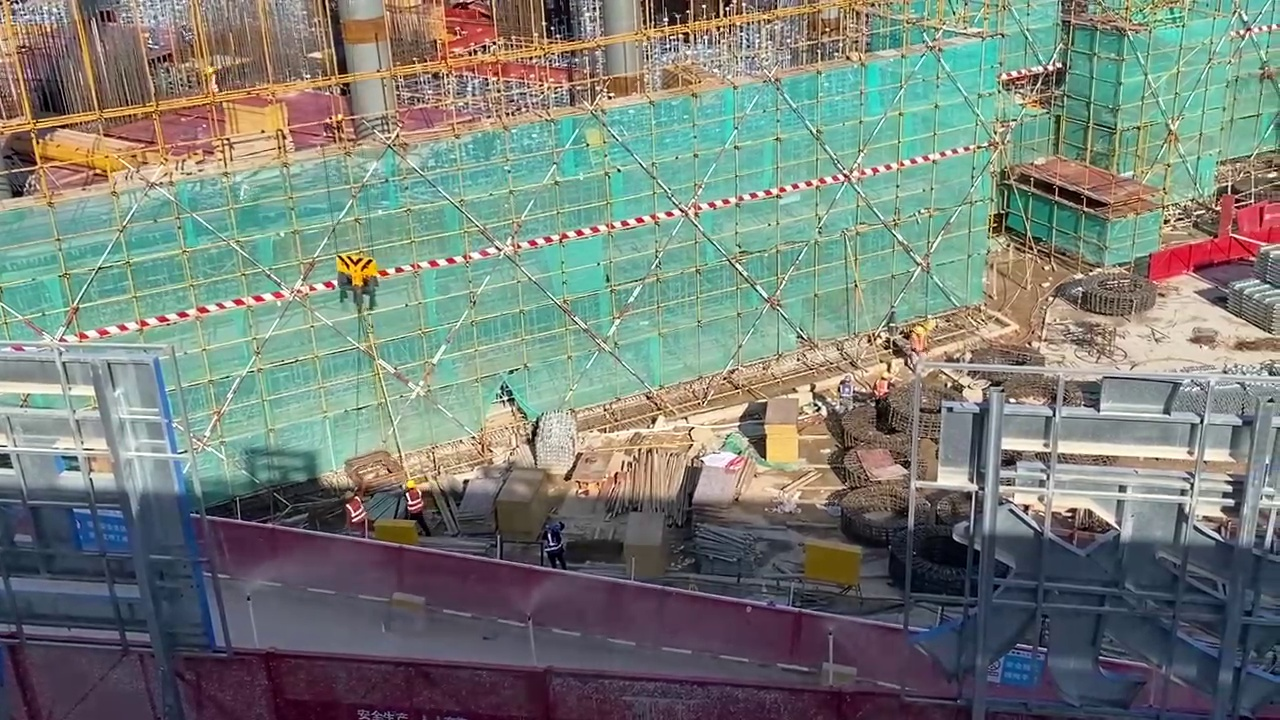board: (495, 468, 544, 542), (621, 512, 664, 575), (764, 396, 798, 461)
fence: (36, 637, 913, 720)
hook: (334, 252, 376, 284)
person: (393, 478, 429, 533), (336, 490, 371, 538), (539, 520, 567, 571), (838, 374, 858, 402), (912, 325, 926, 365), (874, 371, 892, 400)
scaffold: (1227, 275, 1280, 338), (535, 414, 575, 475), (1258, 246, 1280, 278)
vest: (349, 497, 367, 524), (406, 490, 420, 513)
wood: (607, 448, 690, 520)
